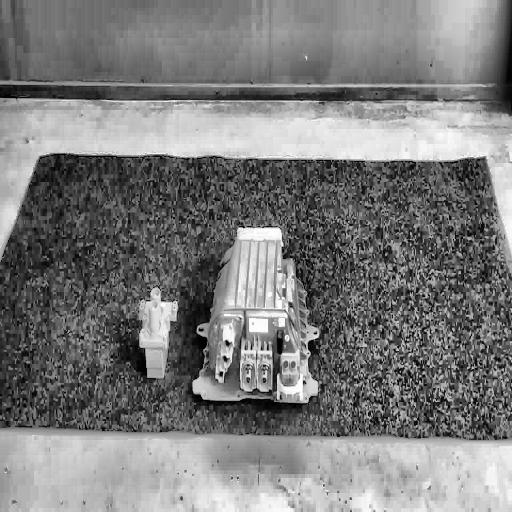bms_unit: (192, 222, 322, 412)
connector: (135, 289, 178, 386)
